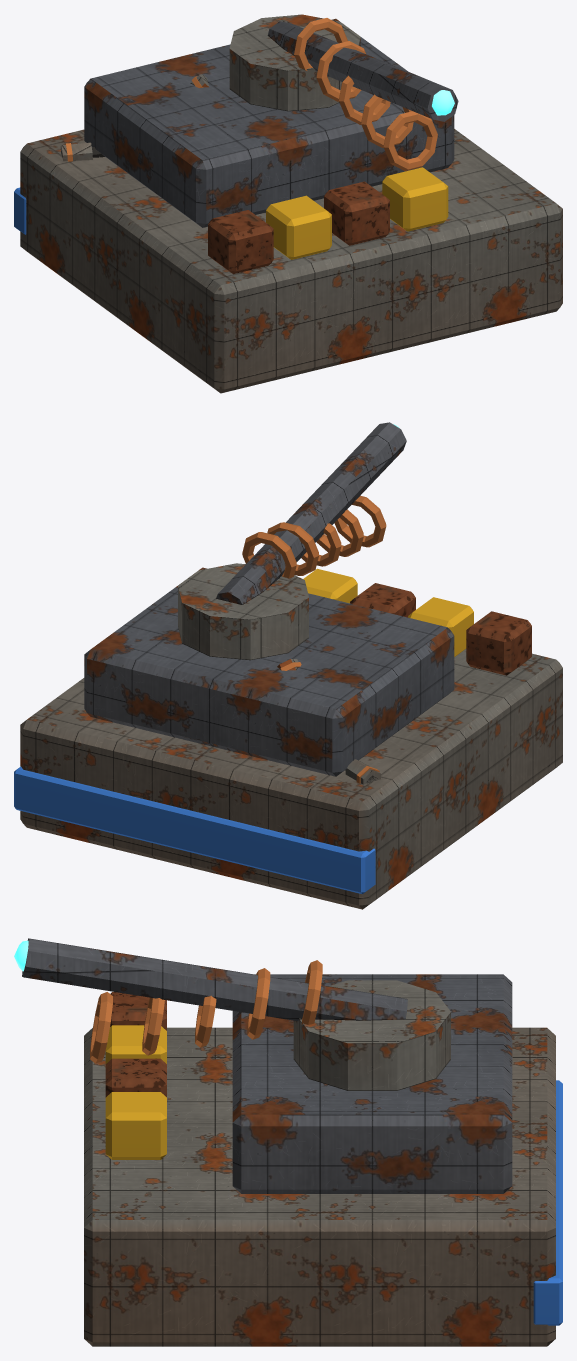
The model's file is centrek.glb.
3 views of the same model, one above another, from view 1: azimuth 30°, elevation 25°; view 2: azimuth 150°, elevation 25°; view 3: azimuth 270°, elevation 25° (orthographic). The views are drawn at different scales.
Visible parts, largest first — view 1: centrek; view 2: centrek; view 3: centrek.
Boxes of the visible parts, box(x1,y1,x2,y2) form: centrek: box(14, 14, 562, 393); centrek: box(14, 422, 562, 909); centrek: box(14, 938, 562, 1346).
Size of the model in its own units: 2.72 by 2.06 by 3.14.
8 materials, 3 textured.
